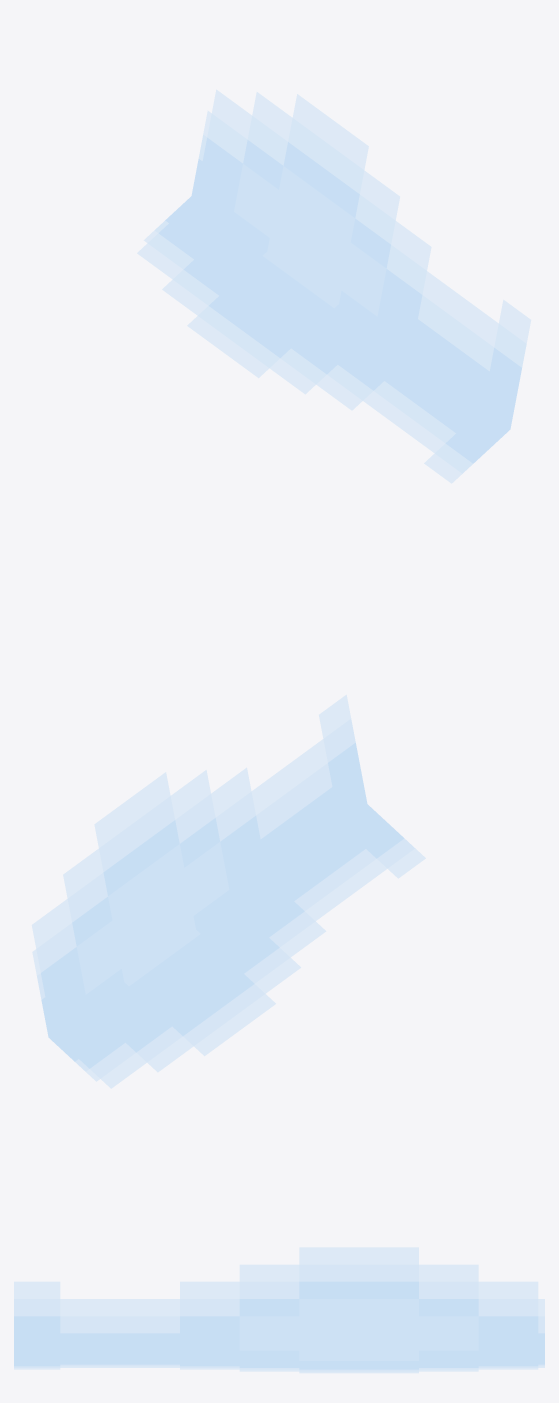
3 renders of one model, top to bottom at view 1: azimuth 30°, elevation 25°; view 2: azimuth 150°, elevation 25°; view 3: azimuth 270°, elevation 25°, orthographic. The views are drawn at different scales.
Size of the model in its own units: 0.3838 by 0.5088 by 1.
1 material, 1 textured.
